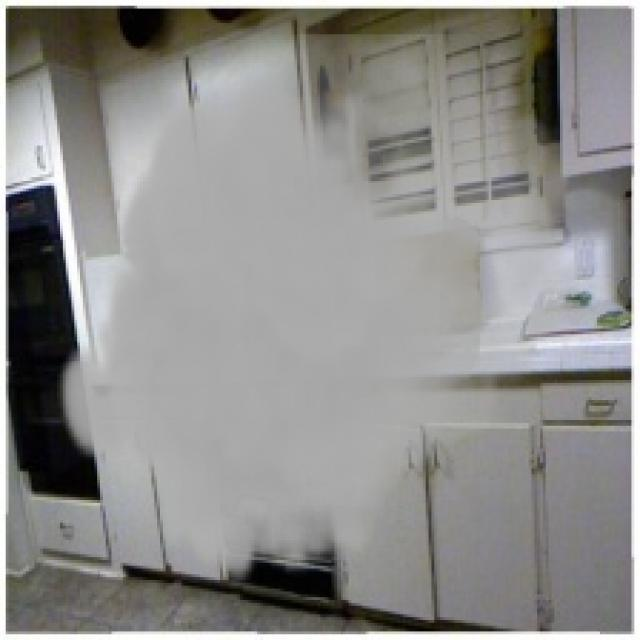Smoke: (54, 34, 603, 586)
